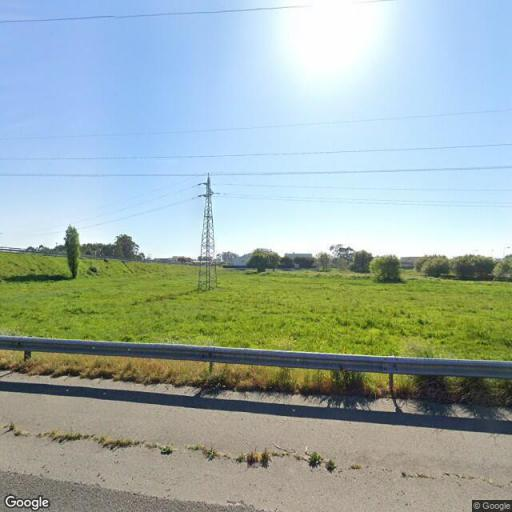ss_4: (194, 173, 221, 295)
